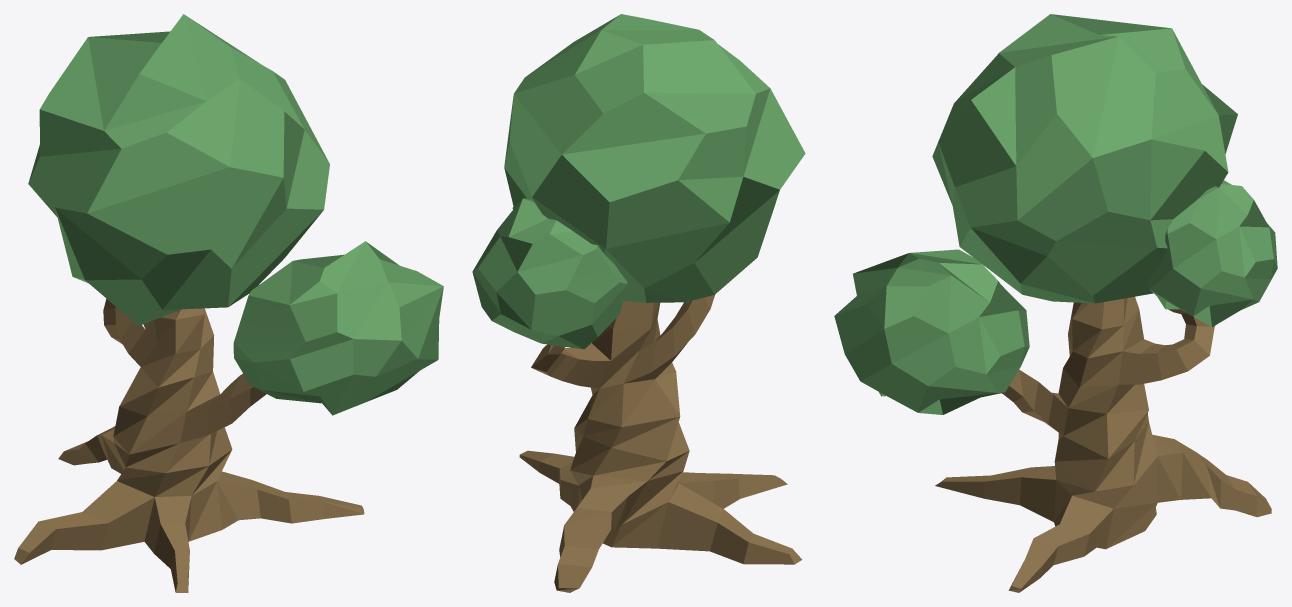
Rendered from tree2.glb.
The picture shows the model from 3 angles, left to right: view 1: azimuth 30°, elevation 25°; view 2: azimuth 150°, elevation 25°; view 3: azimuth 270°, elevation 25°; orthographic projection.
Parts seen in each view (by area): view 1: Node; view 2: Node; view 3: Node.
Part boxes in pixels (x1,y1,x2,y2): Node: (14,14,443,592); Node: (472,14,805,592); Node: (834,14,1277,592).
Size of the model in its own units: 7.09 by 9.92 by 7.98.
